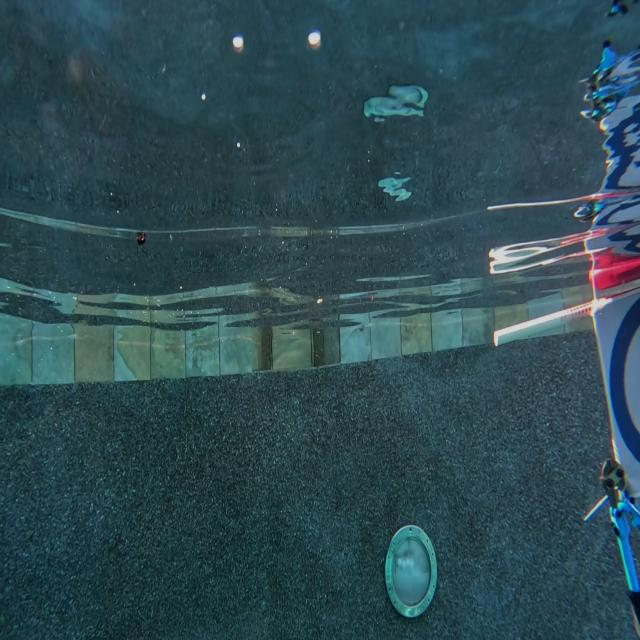blue_side: (586, 284, 640, 496)
